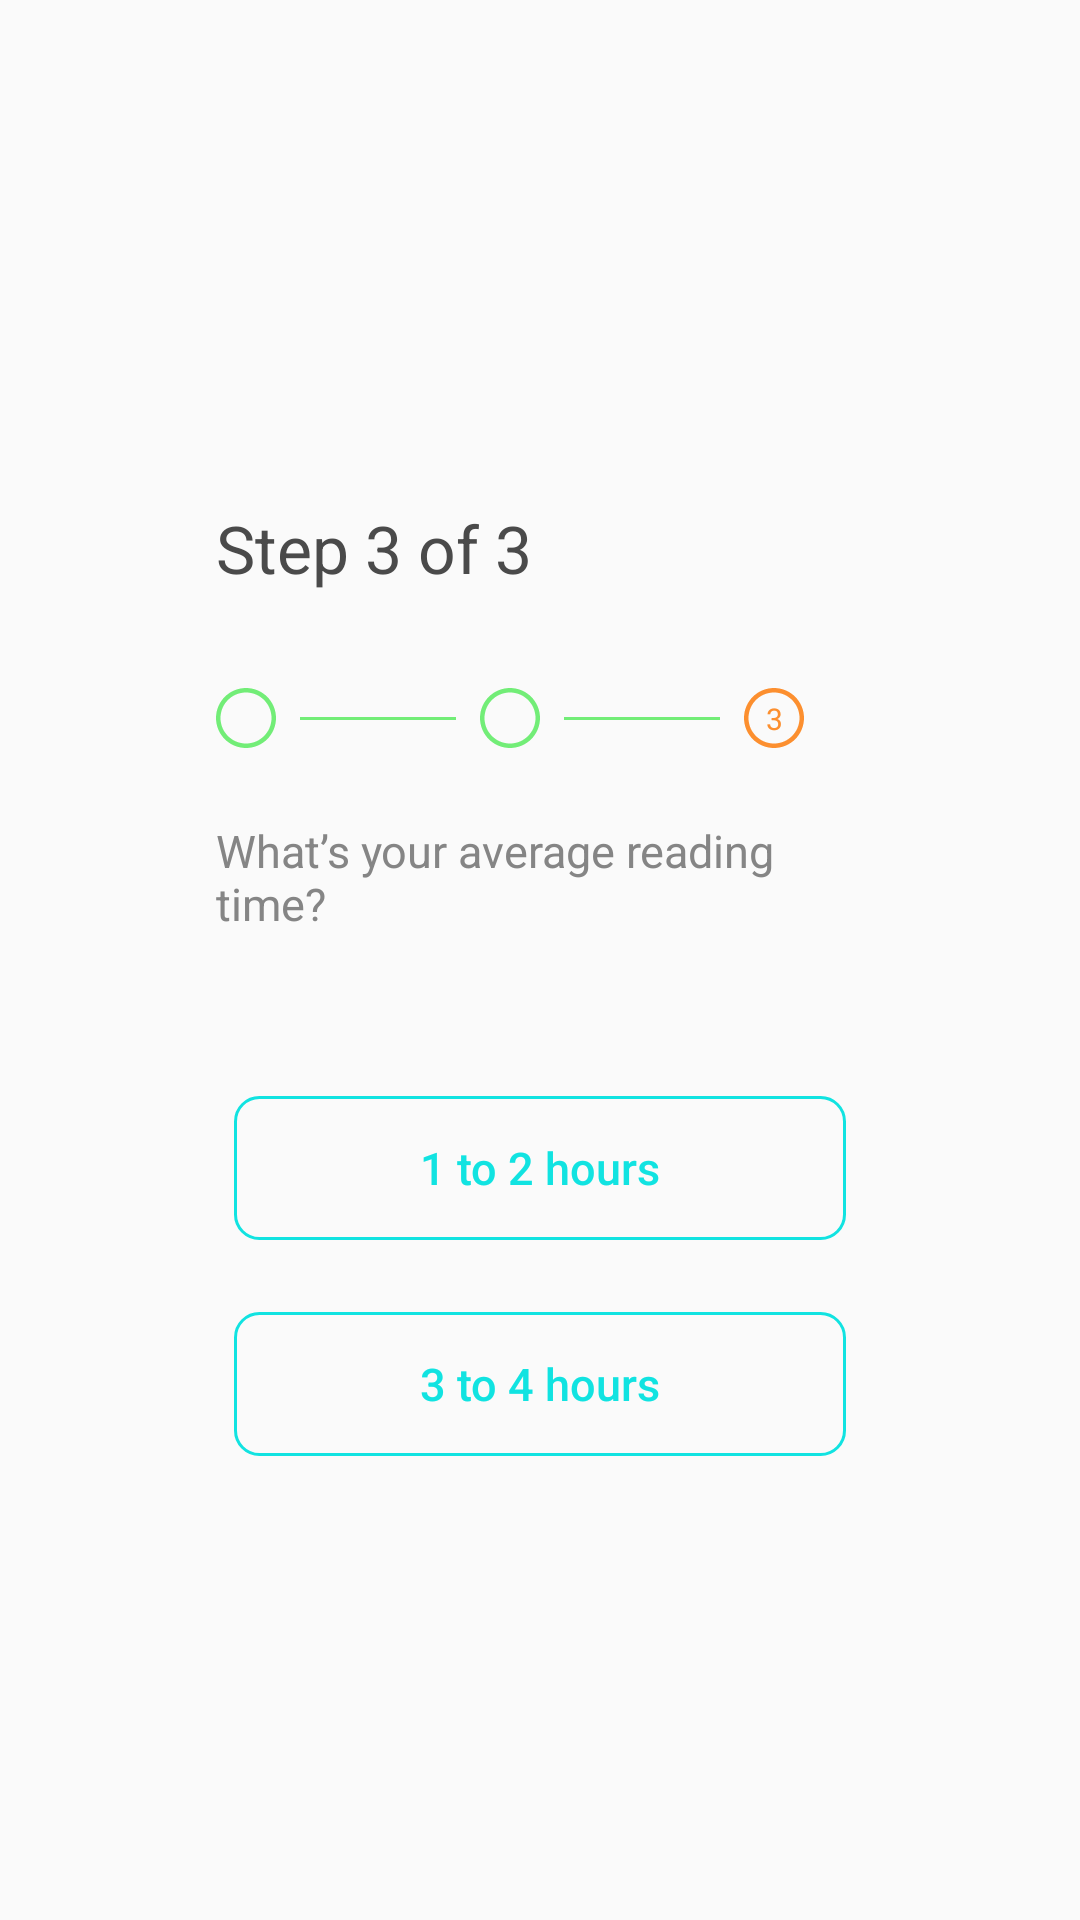

Screen size 1080×1920. Icon name, then its center in pixels as (x=x, y=y):
circle: (x=246, y=718), (x=510, y=718), (x=774, y=718)
